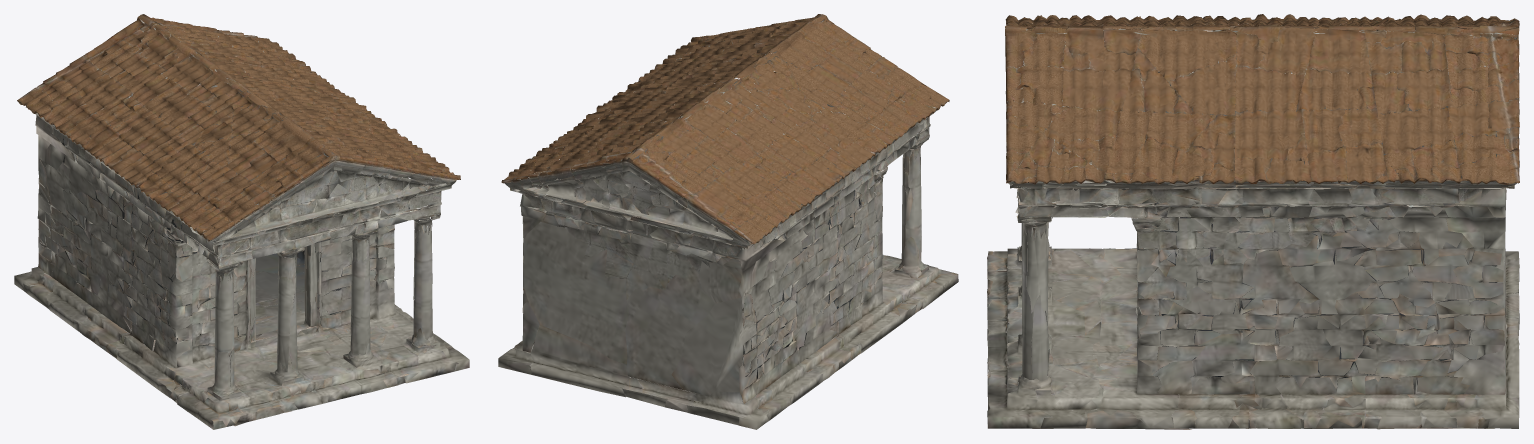
The model's file is stone-hall.glb.
3 renders of one model, left to right at view 1: azimuth 30°, elevation 25°; view 2: azimuth 150°, elevation 25°; view 3: azimuth 270°, elevation 25°, orthographic. The views are drawn at different scales.
Visible parts, largest first — view 1: Mesh_0; view 2: Mesh_0; view 3: Mesh_0.
Part boxes in pixels (x1,y1,x2,y2): Mesh_0: [14, 14, 469, 429]; Mesh_0: [498, 14, 958, 429]; Mesh_0: [987, 14, 1519, 429].
Size of the model in its own units: 4.7 by 4.2 by 6.32.
1 material, 1 textured.
